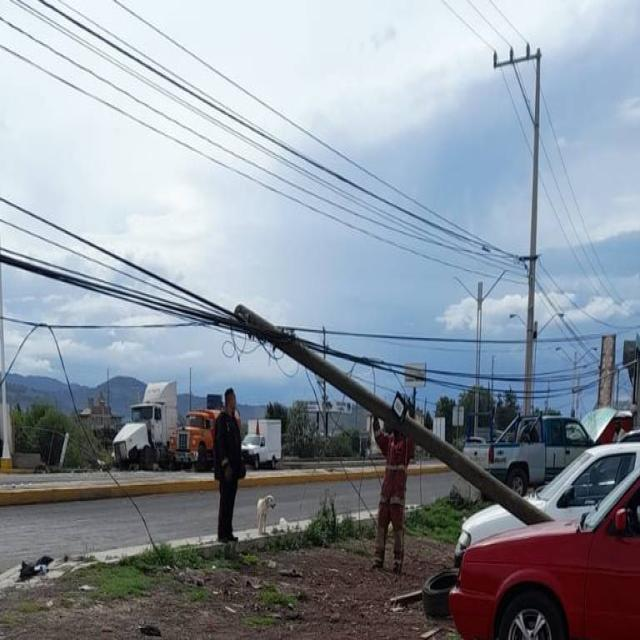light_pole: (232, 302, 555, 525), (491, 39, 545, 420)
